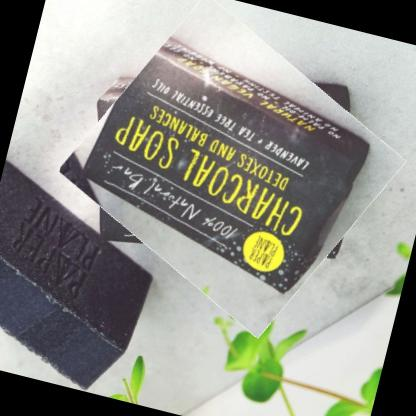soap: (54, 0, 411, 337)
